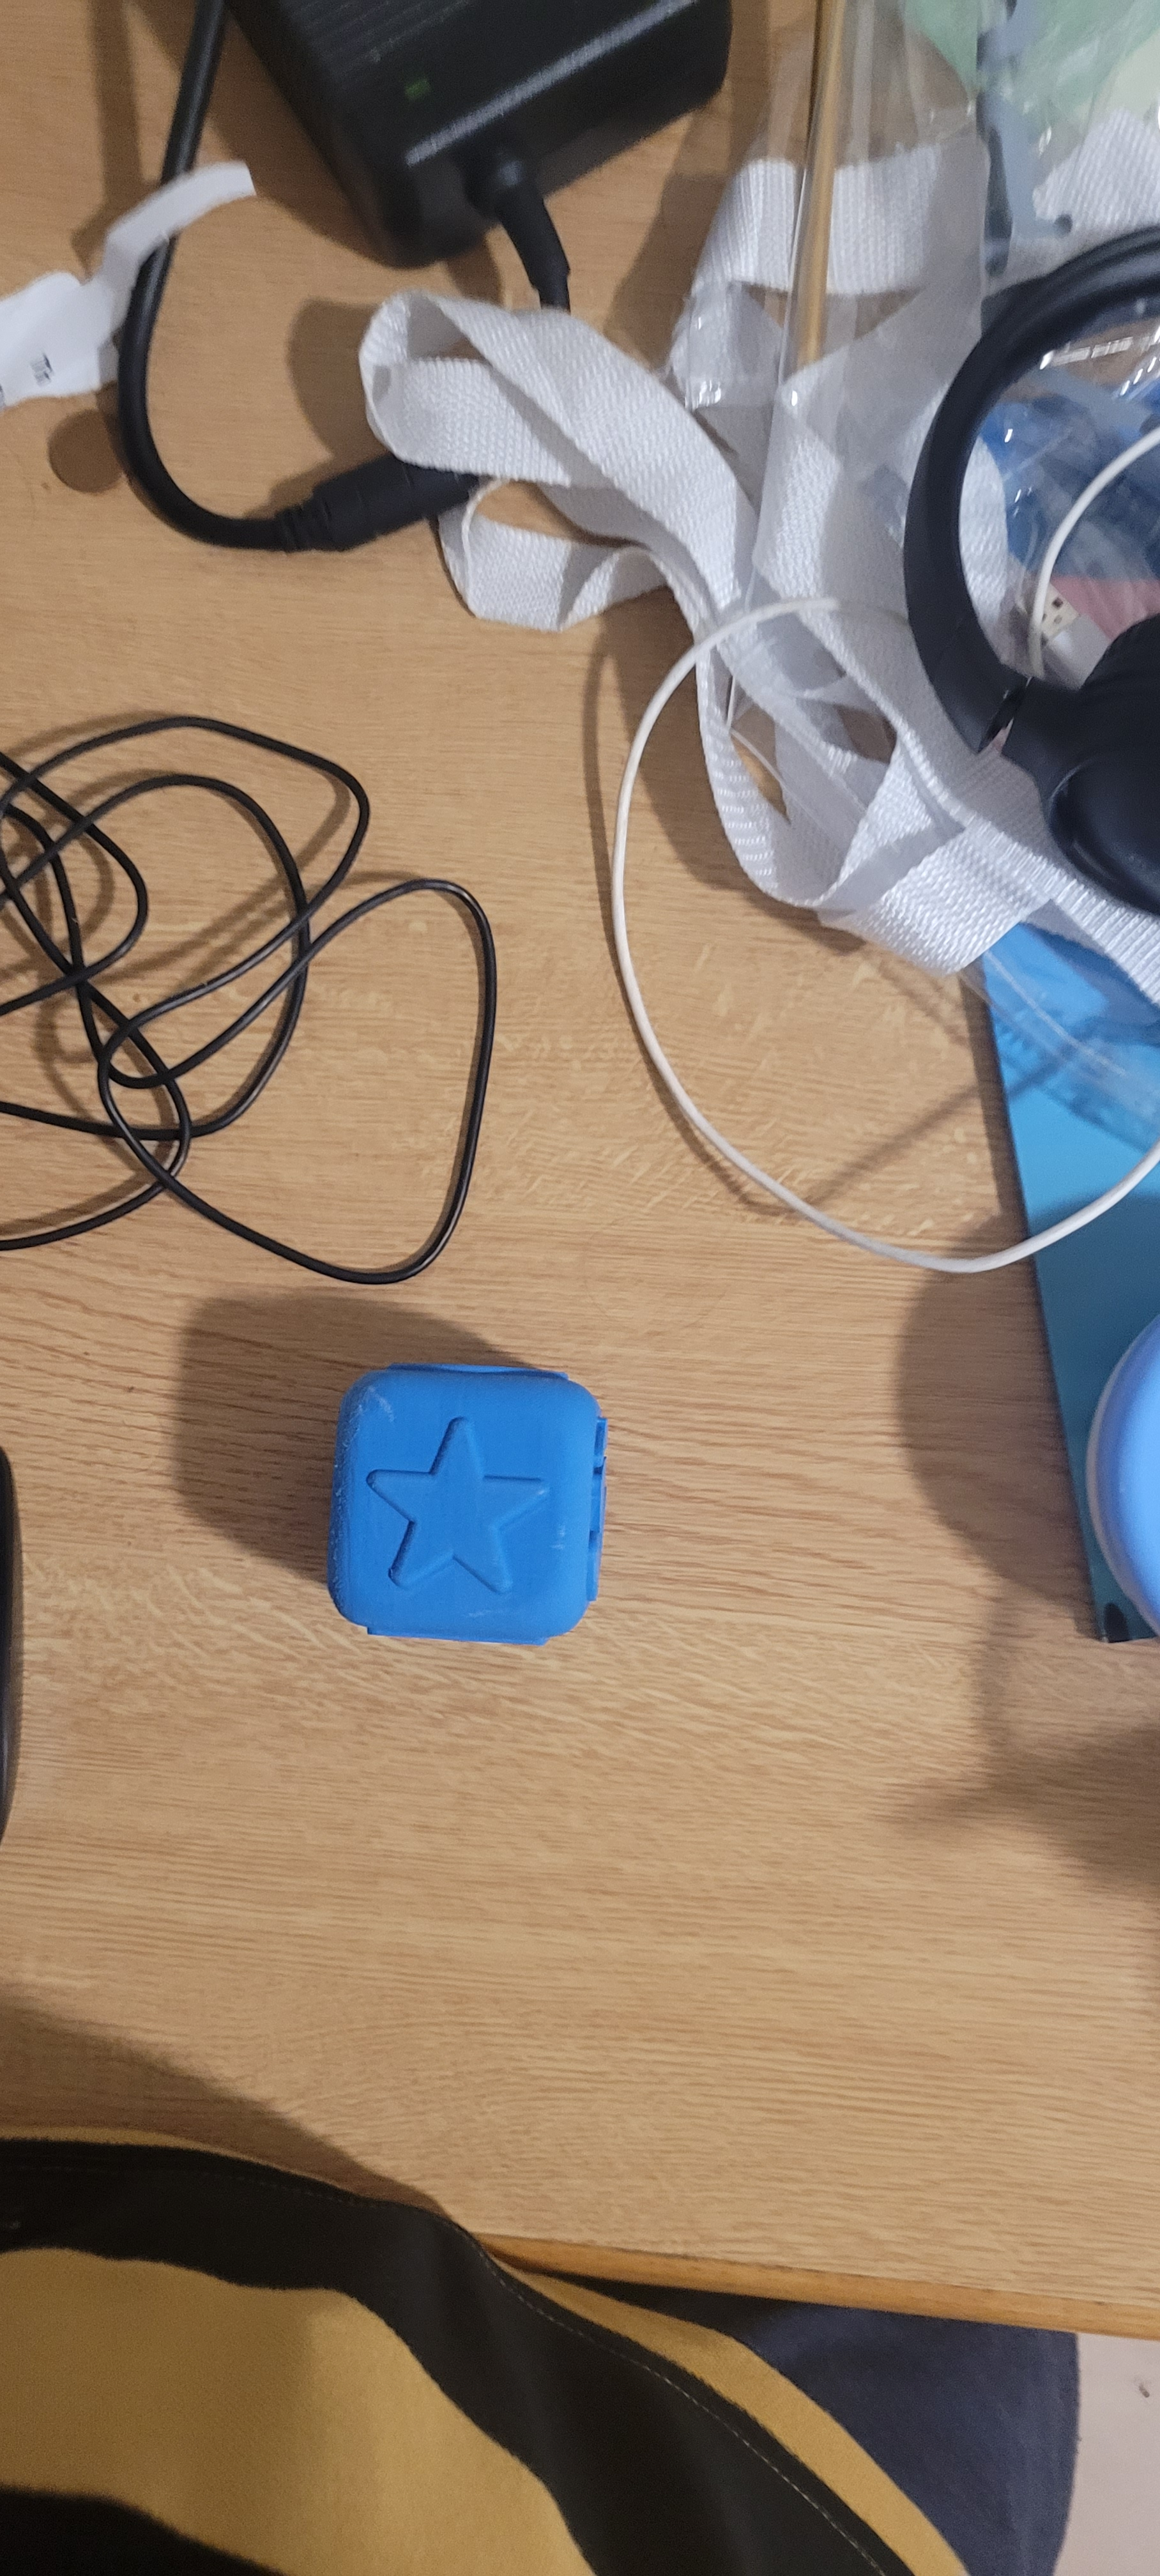Star: (324, 1354, 618, 1626)
